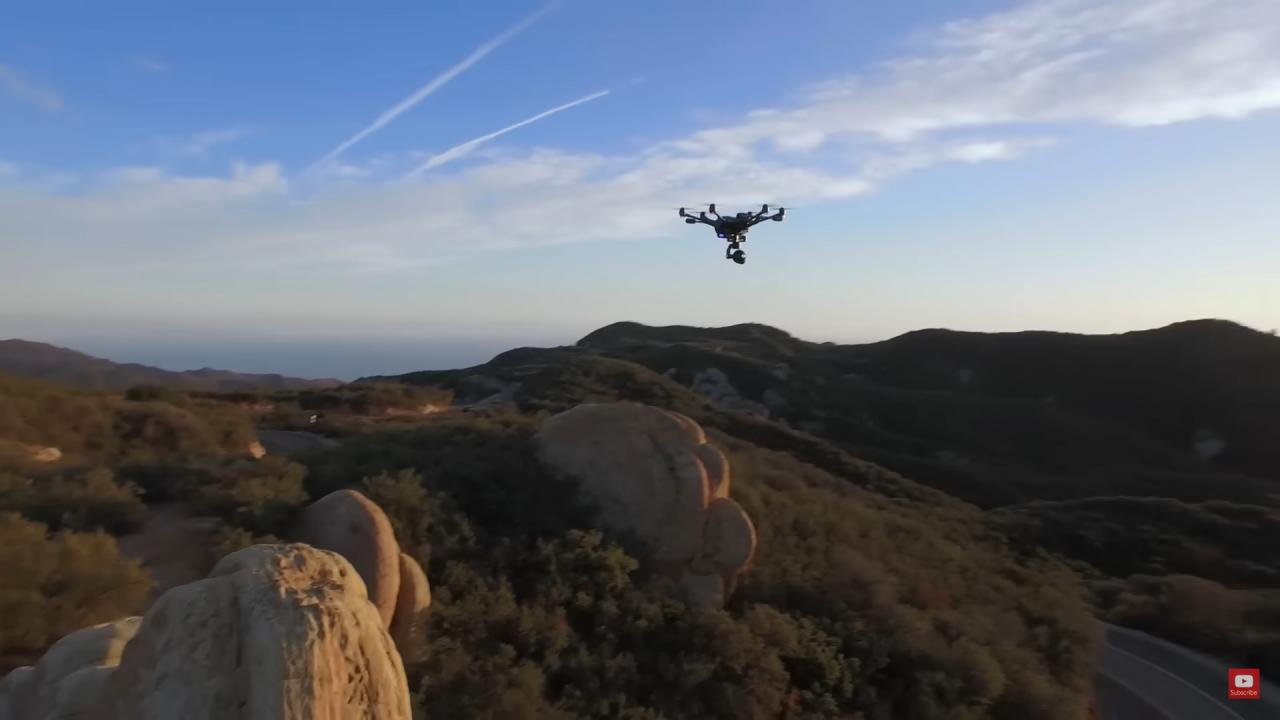Drone: (666, 192, 804, 273)
